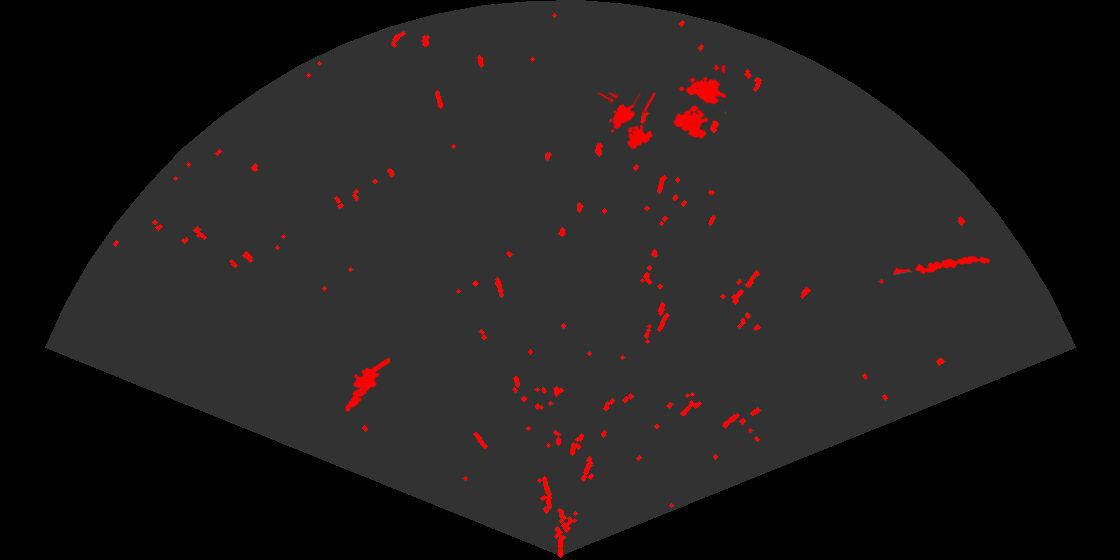cage: (671, 65, 726, 141), (595, 93, 658, 151)
chain: (891, 254, 992, 276)
frogman: (344, 358, 390, 413)
